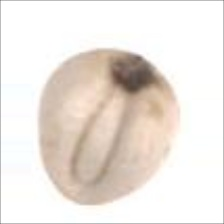L5: (68, 84, 131, 188), (42, 172, 112, 212), (104, 50, 165, 95)
L6: (33, 45, 183, 207)
